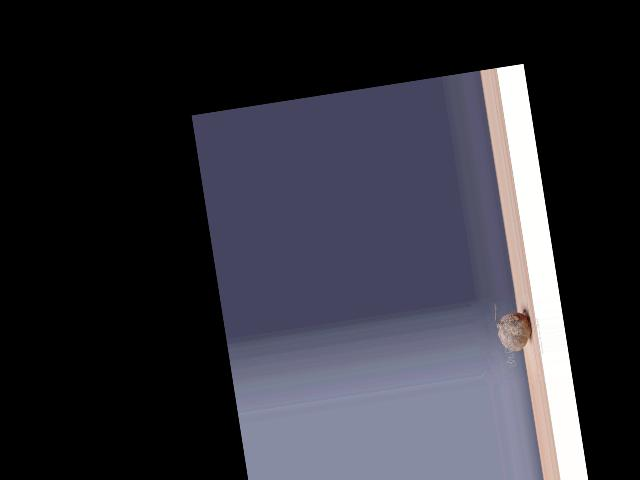beet: (492, 297, 533, 353)
